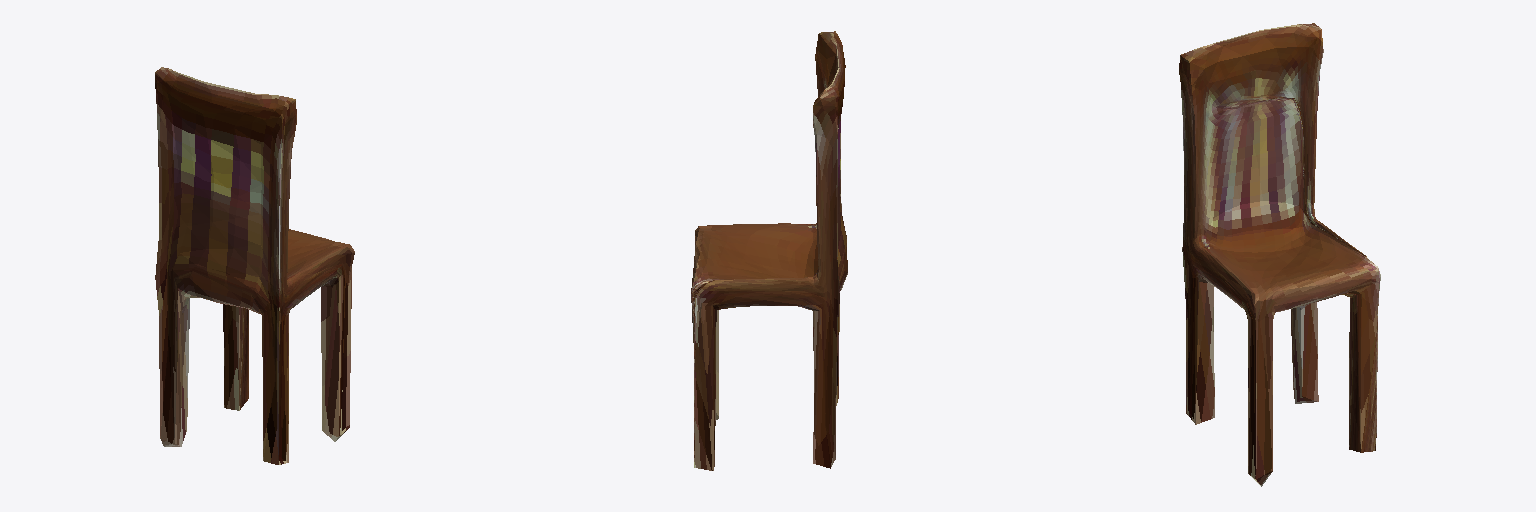
3 renders of one model, left to right at view 1: azimuth 30°, elevation 25°; view 2: azimuth 150°, elevation 25°; view 3: azimuth 270°, elevation 25°, orthographic.
Size of the model in its own units: 0.4589 by 1 by 0.4653.
1 materials, 1 textured.